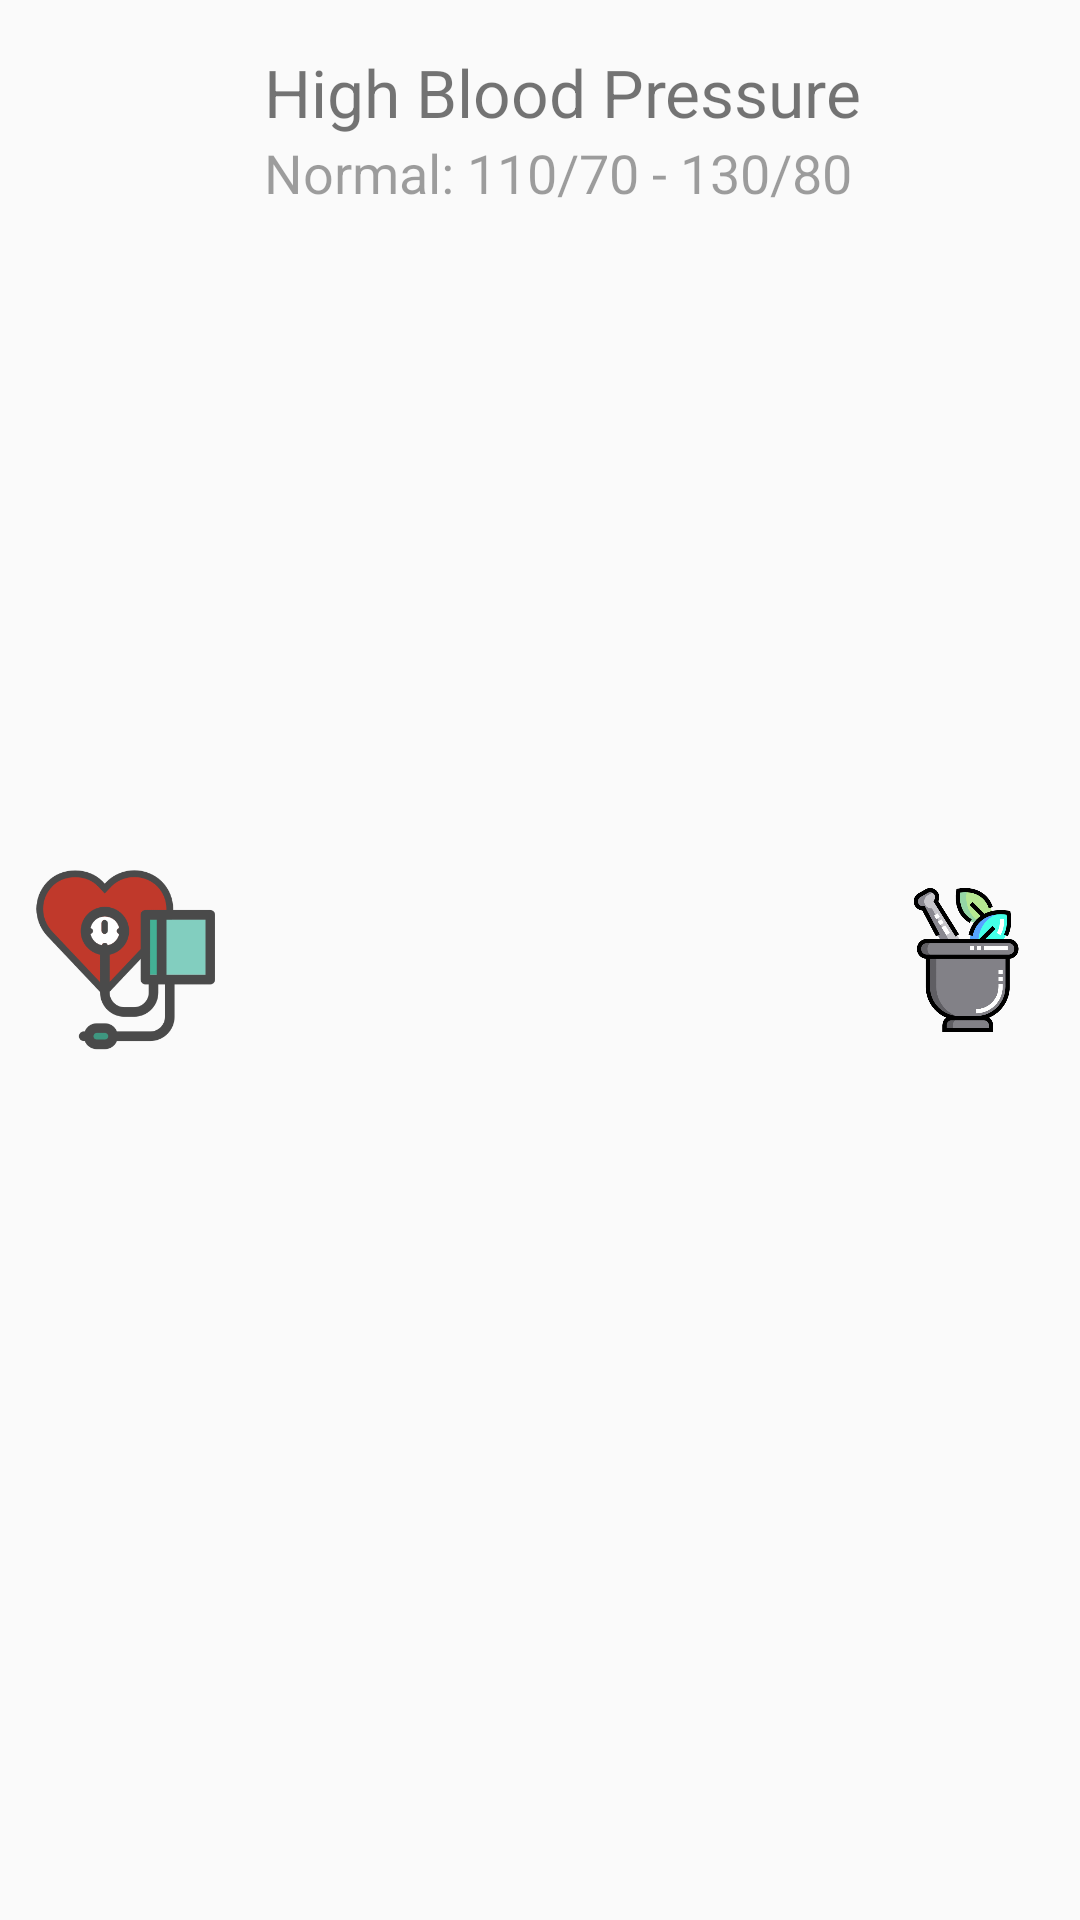

Icons on this 1080x1920 Android screen, each with its box as (left=x1, top=y1, right=x2, bottom=y2):
remedy: (left=914, top=888, right=1019, bottom=1032)
